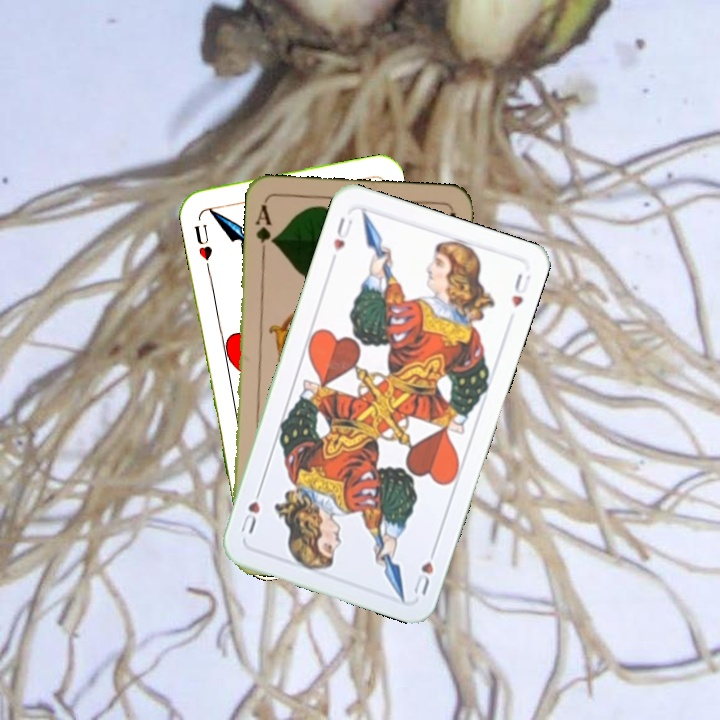GA: (251, 200, 278, 259)
HU: (409, 542, 439, 598), (327, 213, 356, 265), (190, 219, 215, 263)
